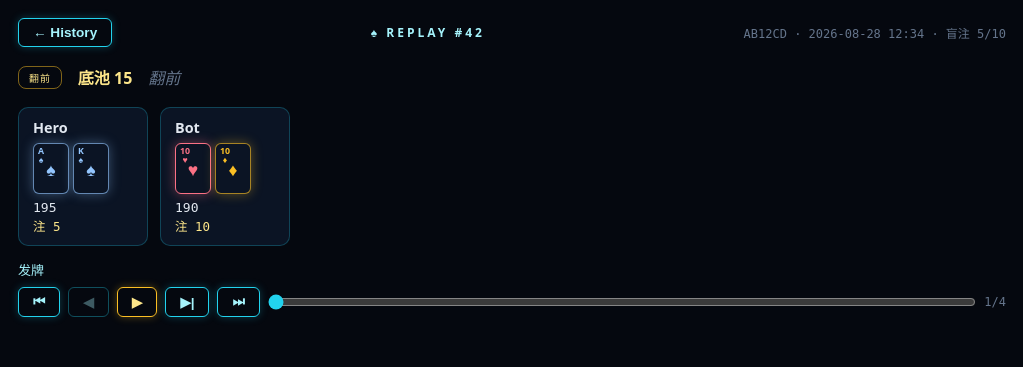
step forward/back through frames, ticker follows last action
expect the text "发牌" is shown: met, box [18, 263, 44, 278]
Click the button "▶|". click: (187, 302)
box: [165, 287, 210, 317]
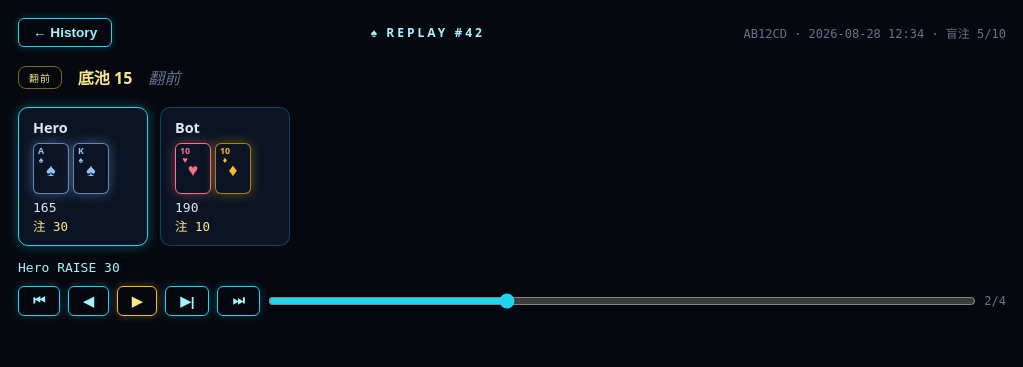
expect the text "Hero RAISE 30" is shown: met, box [18, 260, 120, 275]
expect the text "2/4" is shown: met, box [984, 294, 1006, 308]
Click the button "▶|". click: (187, 301)
box: [165, 286, 210, 316]
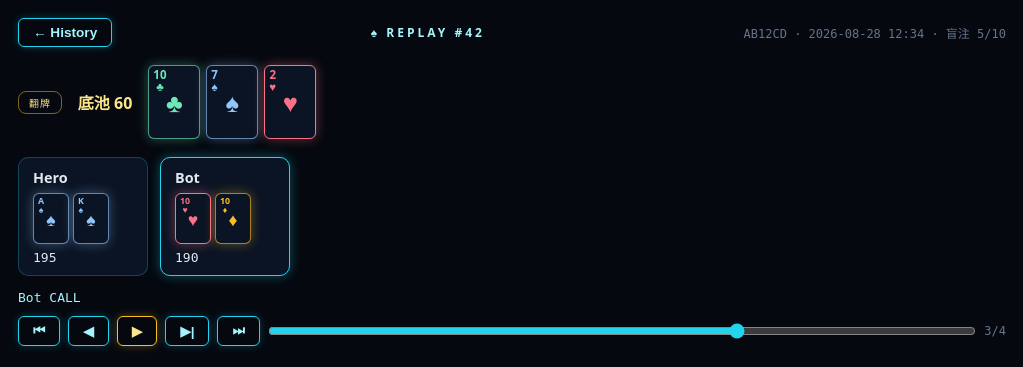
expect the text "Bot CALL" is shown: met, box [18, 290, 81, 305]
expect the text "翻牌" is shown: met, box [18, 90, 62, 114]
Click the button "◀". click: (88, 331)
box: [68, 316, 109, 346]
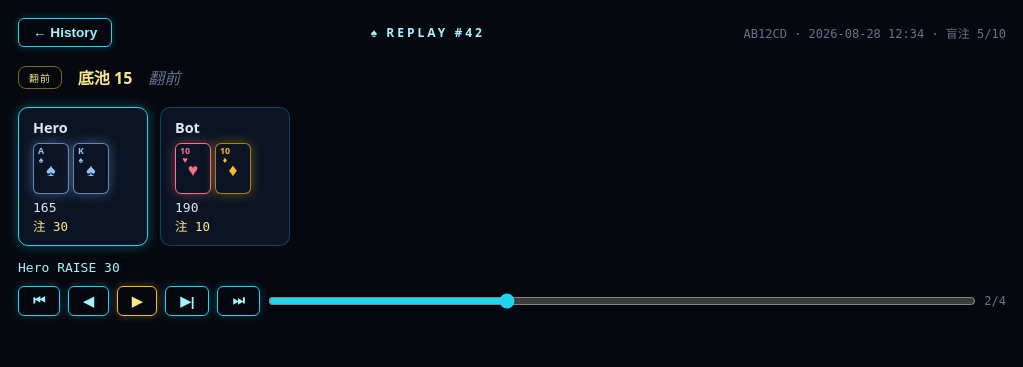
expect the text "Hero RAISE 30" is shown: met, box [18, 260, 120, 275]
